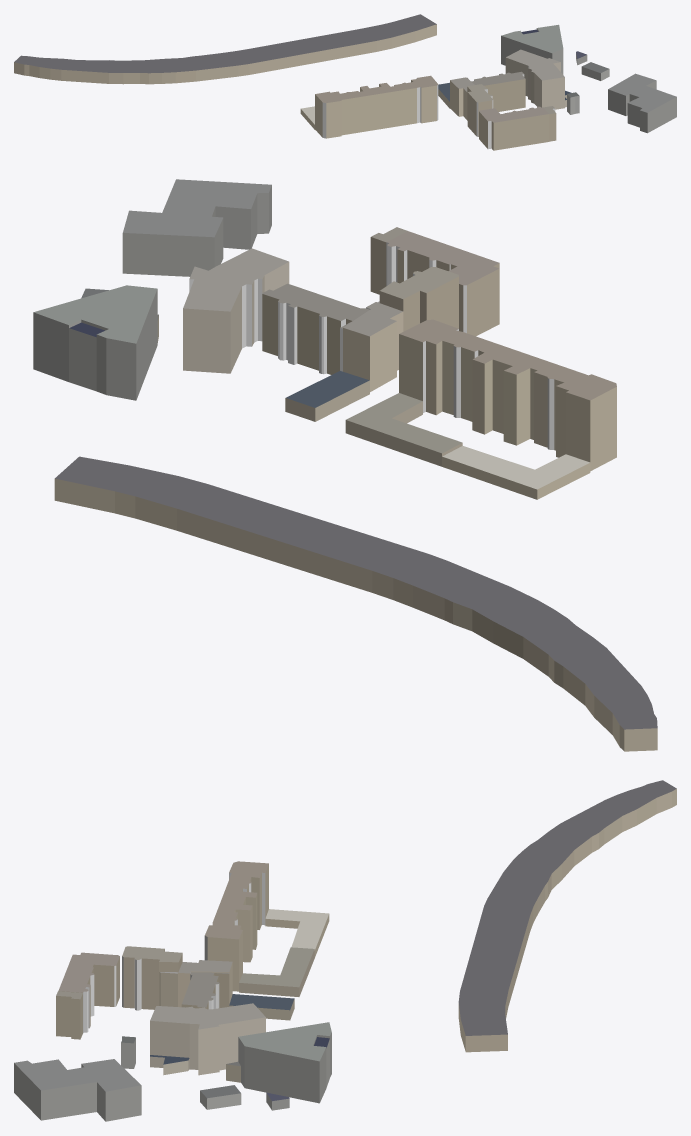
3 views of the same model, one above another, from view 1: azimuth 30°, elevation 25°; view 2: azimuth 150°, elevation 25°; view 3: azimuth 270°, elevation 25° (orthographic). The views are drawn at different scales.
Visible parts, largest first — view 1: tuile; view 2: tuile; view 3: tuile.
Part boxes in pixels (box(x1,y1,x2,y2)): tuile: box(14, 14, 676, 150); tuile: box(33, 179, 657, 751); tuile: box(14, 780, 676, 1121).
Size of the model in its own units: 370 by 28.24 by 318.
